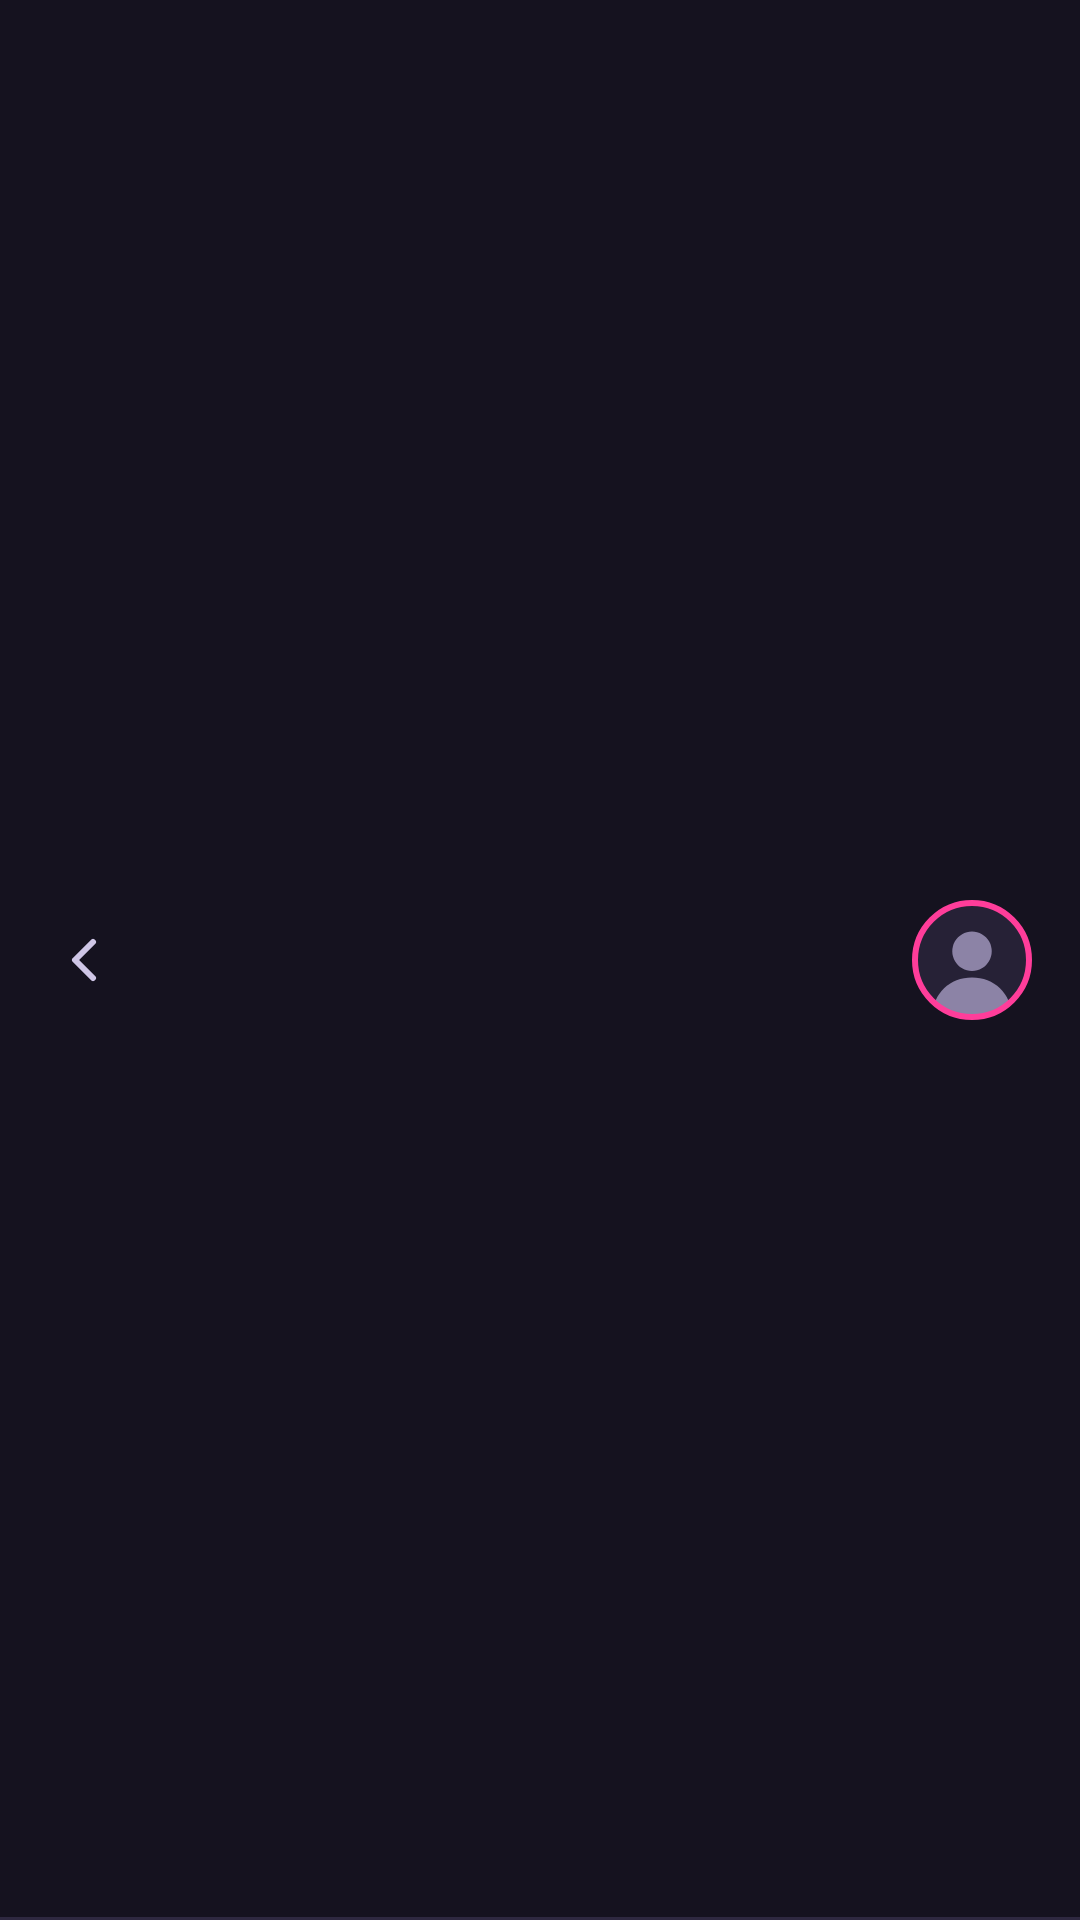

Named icons in this screenshot (1080w x 1920h) and their centers, (x,y):
chevron left: (84,960)
